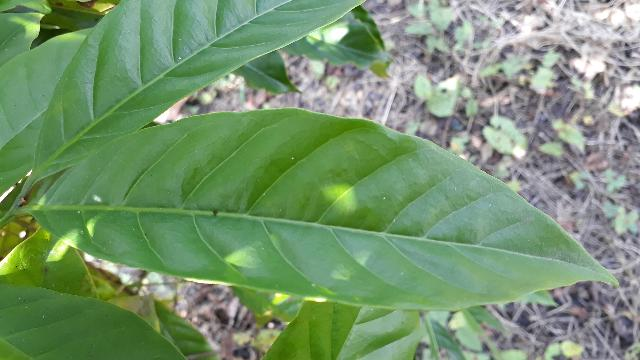healthy: (25, 109, 620, 309)
